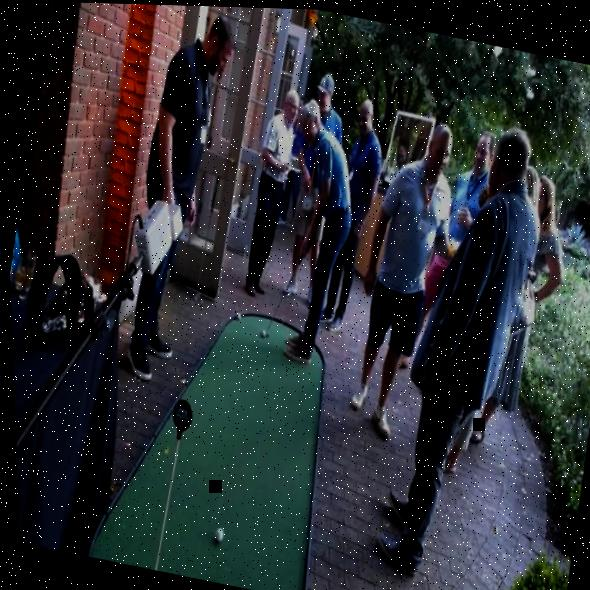GolfBall: (199, 516, 225, 549), (157, 565, 184, 575), (252, 322, 266, 340), (228, 306, 242, 321)
